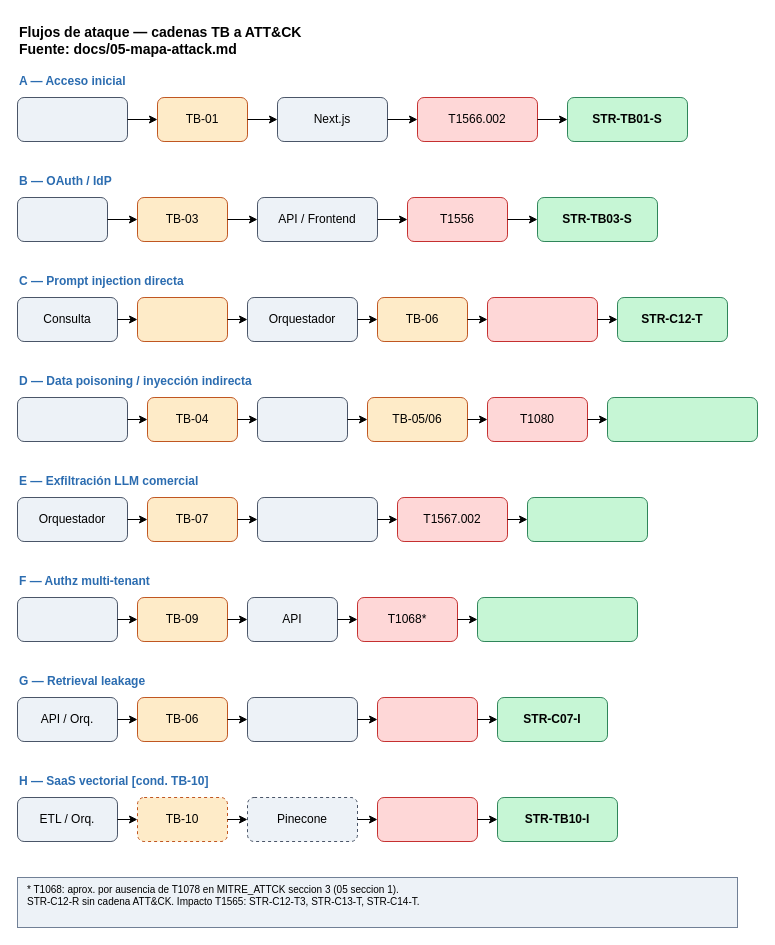
Some shapes in this 775 by 945 pixel diagram are drawn without their labels. Each missing label, with the centre of its shape:
Doc. cargado: [72,419]
ETL: [302,419]
IdP: [62,219]
LLM comercial: [317,519]
OAuth2: [67,619]
STR-C05-T2 / C12-T2: [682,419]
STR-TB07-I: [587,519]
STR-TB09-E / C02-E: [557,619]
T1005: [427,719]
T1059.006: [542,319]
T1530: [427,819]
TB-02: [182,319]
Usuario: [72,119]
Vector DB: [302,719]
